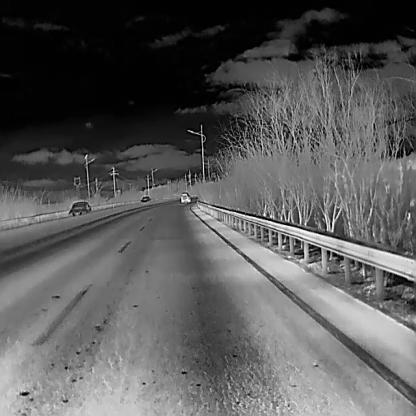car: (67, 200, 92, 218), (179, 192, 190, 202), (140, 196, 150, 202)
